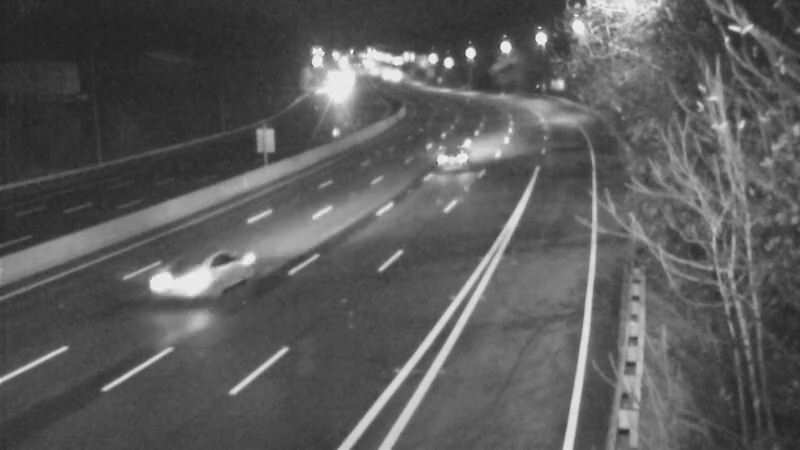vehicle: (415, 119, 495, 199), (141, 246, 221, 326), (311, 66, 361, 116)
